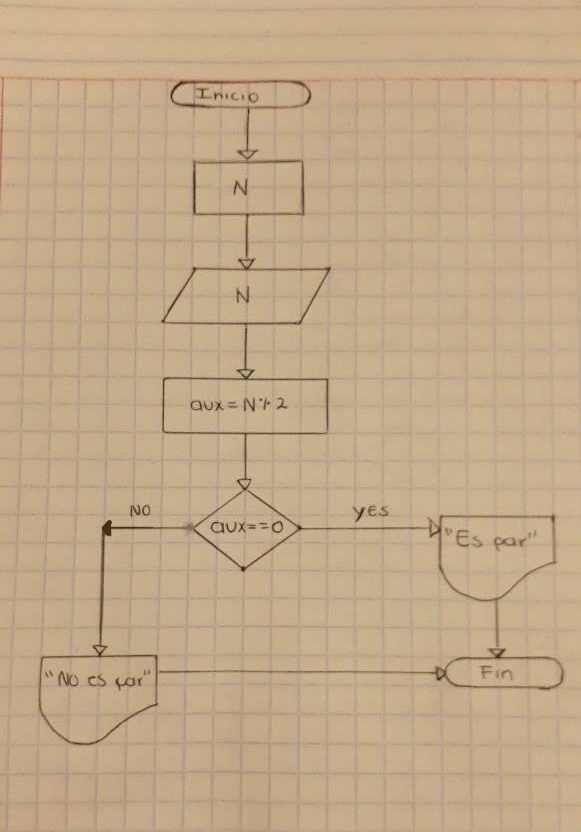arrow_line_down: (90, 529, 115, 658), (236, 107, 259, 164), (235, 431, 256, 491), (236, 212, 258, 269), (236, 322, 257, 377), (489, 598, 508, 657)
arrow_line_left: (102, 517, 196, 539)
arrow_line_right: (158, 663, 445, 682), (299, 517, 442, 538)
decision: (190, 486, 305, 575)
print: (35, 651, 162, 748), (436, 507, 559, 602)
process: (159, 374, 331, 437), (189, 157, 309, 218)
scan: (160, 264, 331, 328)
start_end: (444, 652, 568, 694), (167, 76, 315, 111)
